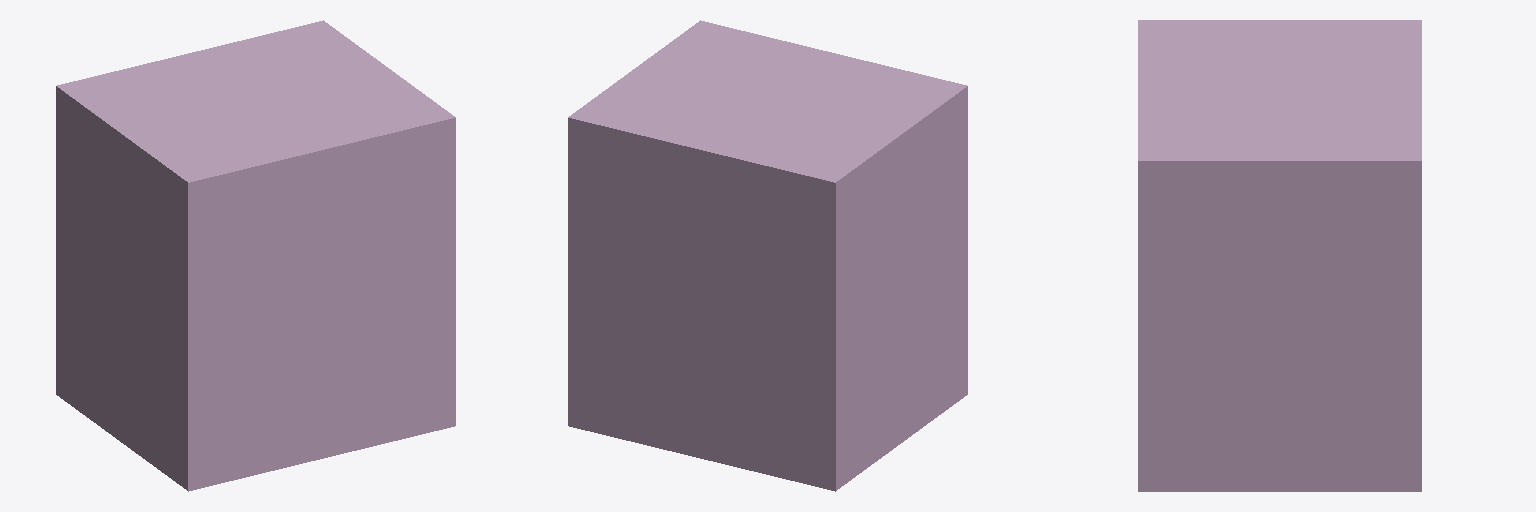
robot.urdf — box.urdf:
<?xml version="1.0" ?>
<robot name="box.urdf">
  <link name="baseLink">
    <contact>
      <lateral_friction value="1.0"/>
      <rolling_friction value="0.0001"/>
      <inertia_scaling value="3.0"/>
    </contact>
    <inertial>
      <origin rpy="0 0 0" xyz="0 0 0"/>
       <mass value="0.1"/>
       <inertia ixx="1" ixy="0" ixz="0" iyy="1" iyz="0" izz="1"/>
    </inertial>
    <visual>
      <origin rpy="0 0 0" xyz="0 0 0"/>
      <geometry>
        <!-- <box size="0.24600000000000002 0.21100000000000002 0.271"/> -->
        <mesh filename="box/box.obj" scale="0.24600000000000002 0.21100000000000002 0.271"/>
      </geometry>
      <material name="white">
        <color rgba="0.8 0.7 0.8 1"/>
      </material>
    </visual>
    <collision>
      <origin rpy="0 0 0" xyz="0 0 0"/>
      <geometry>
        <mesh filename="box/box.obj" scale="0.24600000000000002 0.21100000000000002 0.271"/>
	 	    <!-- <box size="0.24600000000000002 0.21100000000000002 0.271"/> -->
      </geometry>
    </collision>
  </link>
</robot>

--- Render facts (derived) ---
Views: 3 orthographic renders of the robot side by side, from view 1: azimuth 30°, elevation 25°; view 2: azimuth 150°, elevation 25°; view 3: azimuth 270°, elevation 25°.
Model box.urdf with 1 links and 0 joints (none), rooted at baseLink, posed every joint at zero.
Visible links, largest first — view 1: baseLink; view 2: baseLink; view 3: baseLink.
Link boxes in pixels (x1,y1,x2,y2): baseLink: (56, 20, 455, 491); baseLink: (568, 20, 967, 491); baseLink: (1138, 20, 1421, 491).
Size in the robot's own frame: 0.246 by 0.211 by 0.271 metres.
1 mesh visuals loaded from 1 distinct referenced files (1 OBJ).
